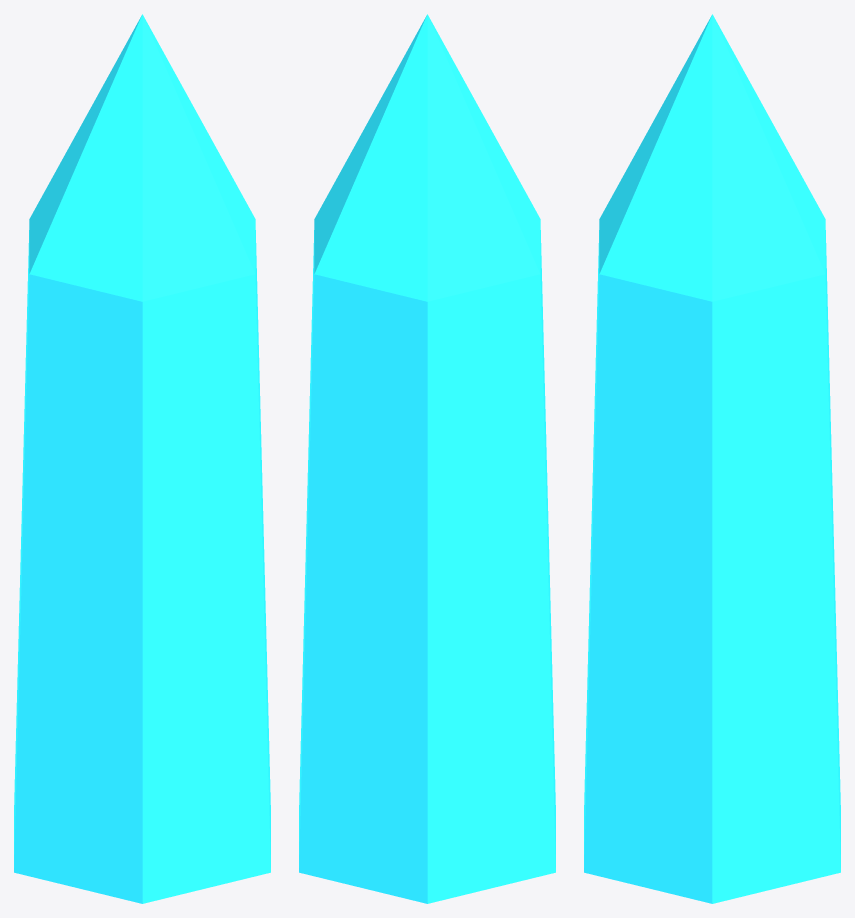
Rendered from GEM_01_HexagonalPoint.fbx.
3 views of the same model, side by side, from view 1: azimuth 30°, elevation 25°; view 2: azimuth 150°, elevation 25°; view 3: azimuth 270°, elevation 25° (orthographic).
Visible parts, largest first — view 1: GEM_01_HexagonalPoint; view 2: GEM_01_HexagonalPoint; view 3: GEM_01_HexagonalPoint.
Part boxes in pixels (bbox=[...]): GEM_01_HexagonalPoint: bbox=[14, 14, 270, 903]; GEM_01_HexagonalPoint: bbox=[299, 14, 555, 903]; GEM_01_HexagonalPoint: bbox=[584, 14, 840, 903].
Size of the model in its own units: 0.52 by 1.6 by 0.4503.
